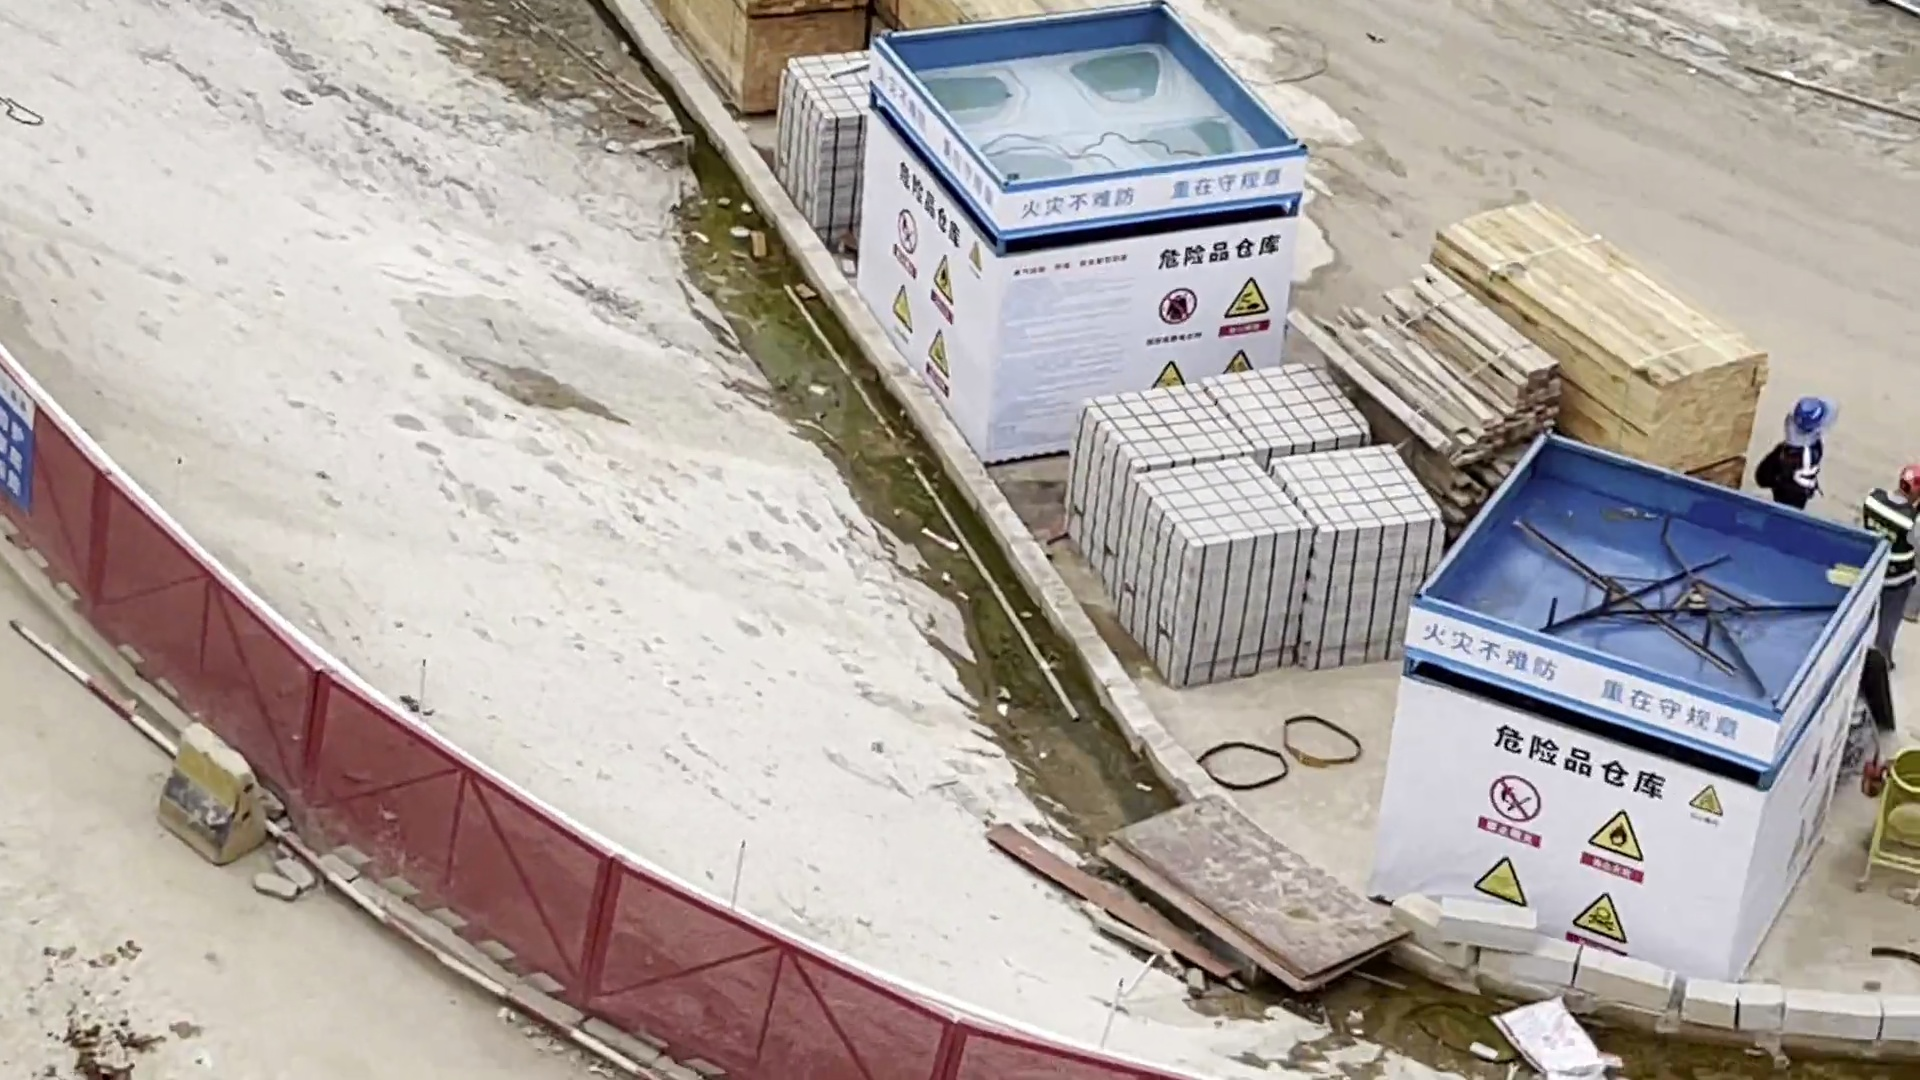brick: (1056, 351, 1449, 688), (768, 46, 884, 245)
fence: (1, 342, 471, 1000), (458, 757, 1190, 1080)
helmet: (1782, 389, 1840, 450), (1886, 456, 1920, 492)
person: (1858, 446, 1920, 683), (1750, 385, 1838, 523)
slogan: (1394, 584, 1784, 992), (971, 146, 1310, 485), (840, 30, 996, 473), (1768, 538, 1902, 985), (1, 346, 54, 523)
vest: (1838, 476, 1920, 595), (1764, 427, 1827, 488)
wood: (1308, 139, 1775, 509), (653, 3, 1060, 105)
